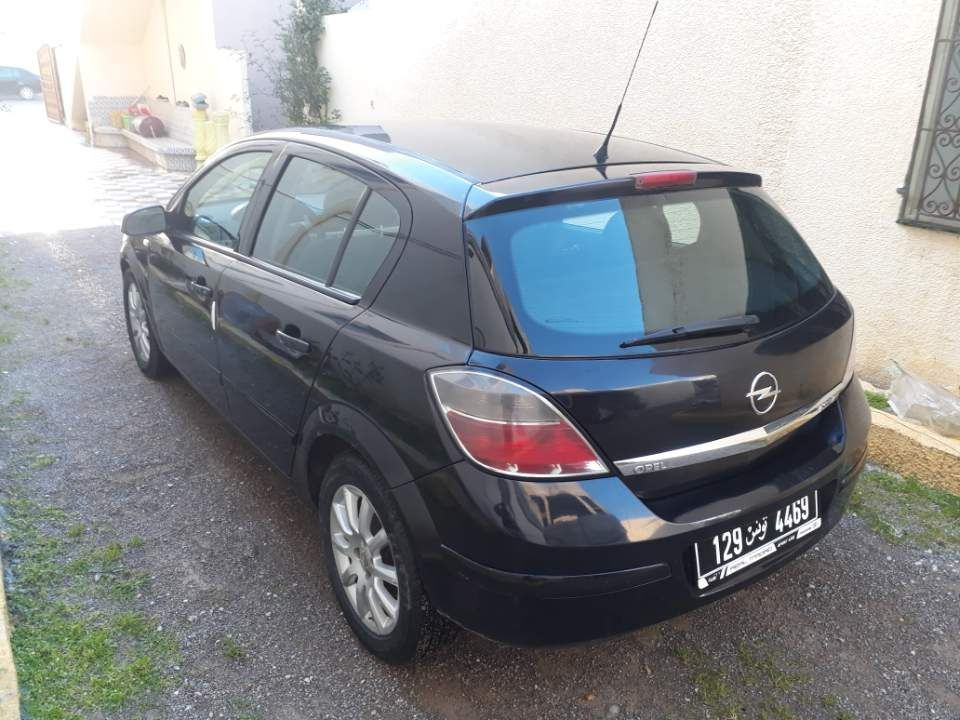LP: (690, 488, 822, 577)
